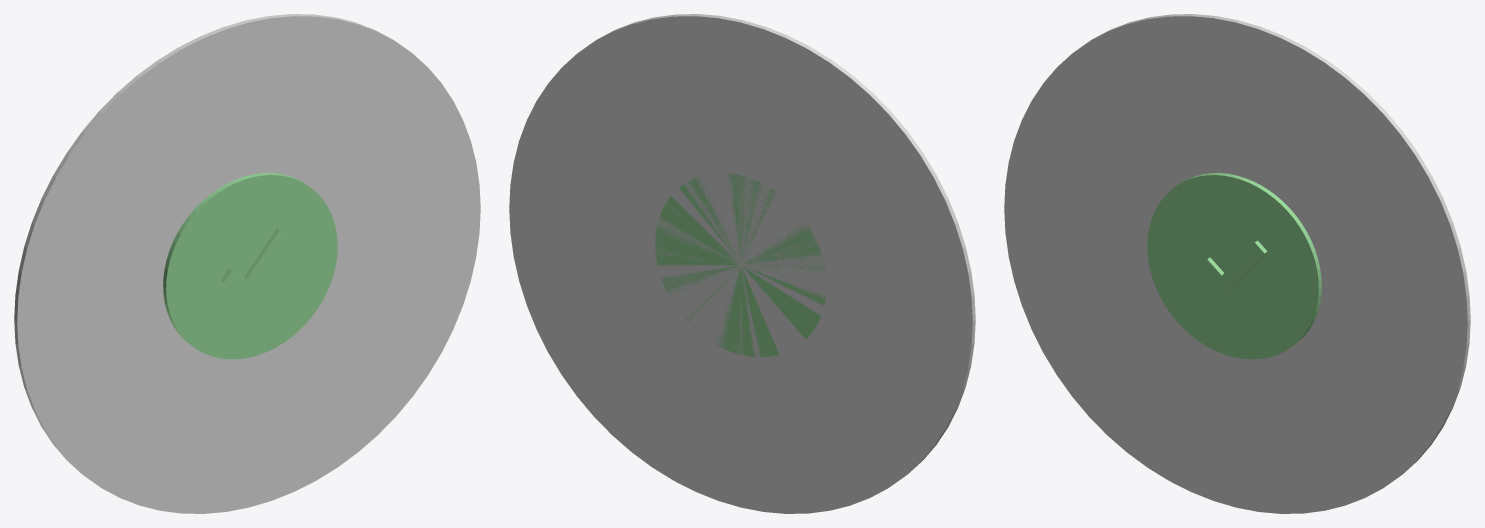
The model's file is ar_capture_target.glb.
3 views of the same model, side by side, from view 1: azimuth 30°, elevation 25°; view 2: azimuth 150°, elevation 25°; view 3: azimuth 330°, elevation 25° (orthographic).
Bounding box in the file's own units: 0.54 × 0.54 × 0.018.
